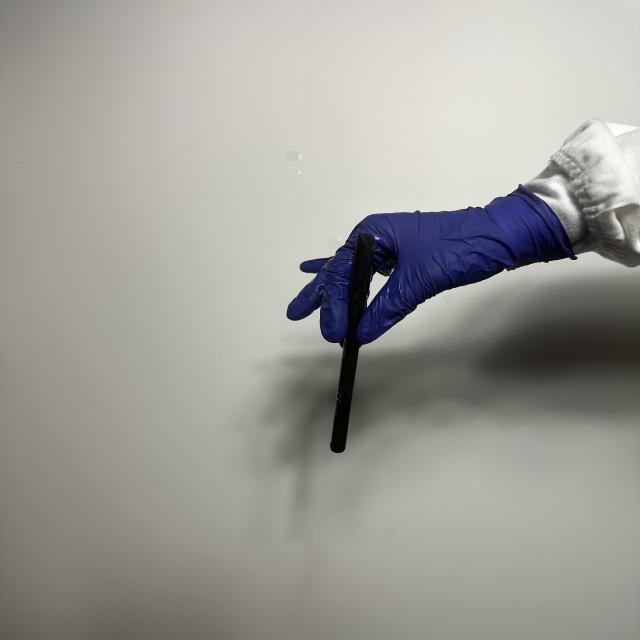gloves_contaminated: (287, 185, 575, 344)
